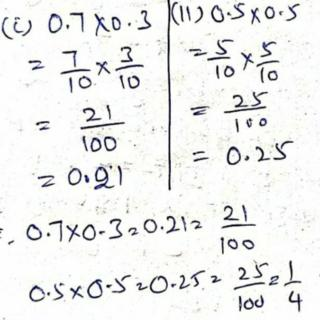.: (82, 173, 91, 185), (104, 280, 113, 289), (64, 21, 71, 30), (97, 229, 106, 236), (244, 154, 251, 163), (170, 280, 176, 290), (45, 289, 52, 297), (278, 9, 285, 17), (126, 20, 133, 27), (45, 230, 51, 237), (225, 9, 231, 16), (159, 224, 165, 230)
0: (148, 274, 168, 294), (86, 278, 104, 300), (224, 144, 242, 166), (47, 11, 64, 34), (26, 284, 46, 303), (25, 223, 43, 242), (102, 134, 118, 153), (66, 167, 82, 186), (82, 222, 97, 242), (210, 3, 225, 23), (142, 216, 157, 234), (89, 134, 102, 154), (77, 74, 93, 89), (126, 74, 141, 90), (110, 13, 122, 32), (266, 68, 280, 83), (223, 63, 236, 79), (254, 293, 266, 309), (226, 237, 239, 251), (264, 4, 275, 20), (241, 237, 255, 249), (243, 296, 254, 310), (245, 115, 254, 131), (257, 116, 269, 128)
1: (103, 102, 114, 121), (287, 259, 296, 281), (80, 134, 89, 154), (116, 164, 124, 186), (241, 203, 250, 222), (232, 115, 241, 134), (66, 75, 75, 93), (179, 214, 188, 232), (218, 234, 226, 254), (235, 294, 243, 313), (118, 73, 126, 90), (213, 63, 221, 80), (259, 66, 266, 84)
2: (93, 166, 115, 190), (81, 104, 102, 123), (254, 143, 271, 164), (220, 204, 239, 222), (165, 213, 181, 234), (231, 93, 250, 108), (178, 273, 190, 291), (237, 265, 251, 280)
3: (107, 216, 124, 241), (137, 7, 152, 32), (117, 44, 134, 64)
4: (286, 289, 304, 312)
5: (273, 139, 293, 162), (252, 259, 269, 280), (113, 274, 130, 294), (259, 40, 277, 58), (250, 89, 268, 107), (189, 270, 206, 289), (214, 37, 233, 54), (286, 1, 301, 22), (52, 281, 65, 302), (232, 1, 245, 21)
7: (47, 219, 64, 244), (60, 48, 82, 67), (68, 10, 86, 32)
